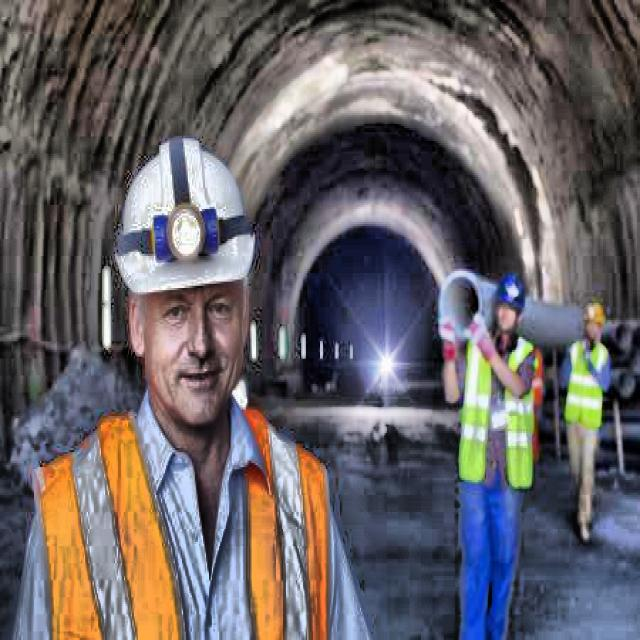helmet: (108, 126, 265, 446), (491, 266, 526, 346)
